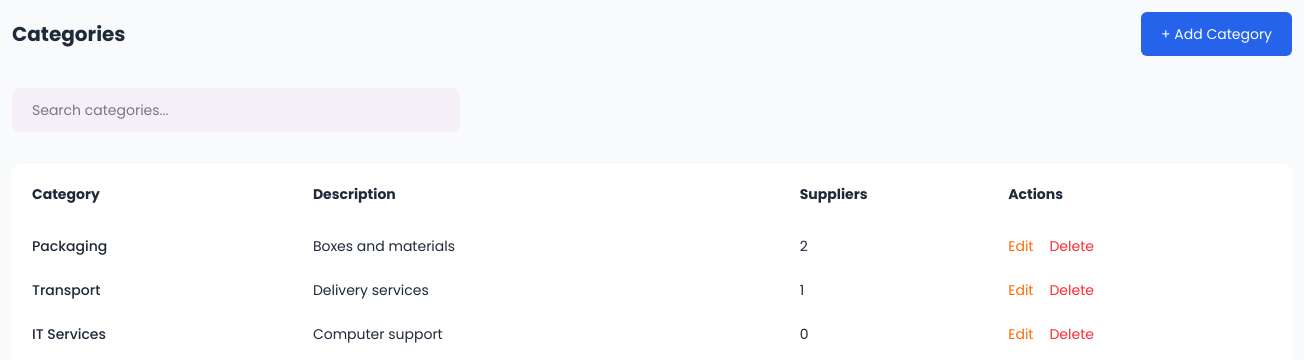
Test: Categories Page › searches categories by description
The width and height of the screenshot is (1304, 360).
Type "Computer" into the search field labelled "Search categories..." at (236,110), box [12,88,460,132]
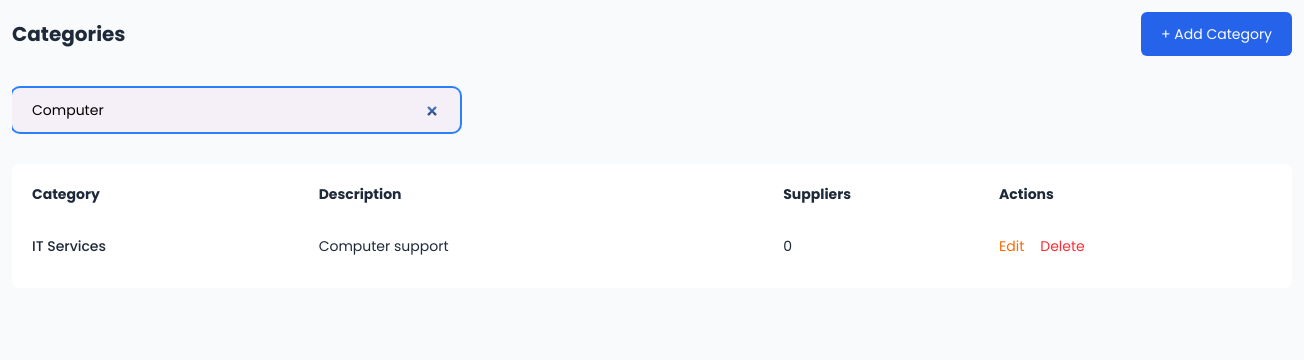
Expected: the text "IT Services" is shown, [32,224,319,268]
Expected: the text "Packaging" is gone
